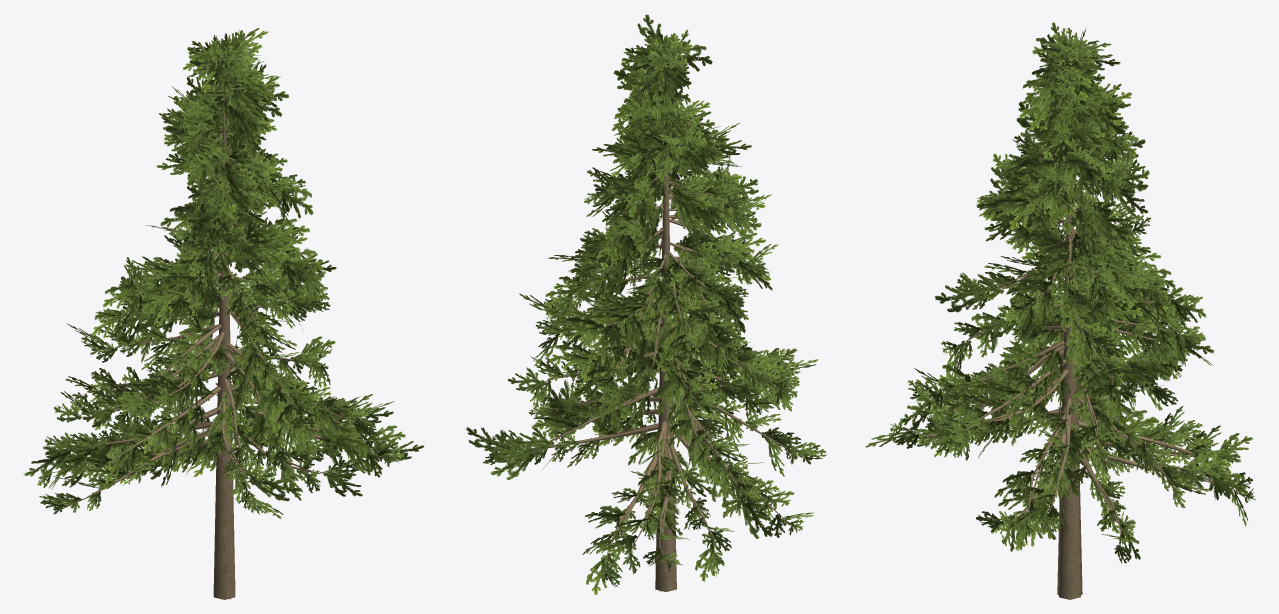
The model's file is tree_spruce_medium.glb.
3 views of the same model, side by side, from view 1: azimuth 30°, elevation 25°; view 2: azimuth 150°, elevation 25°; view 3: azimuth 270°, elevation 25° (orthographic). The views are drawn at different scales.
Visible parts, largest first — view 1: LOD1_leaves, LOD0_leaves, LOD0_trunk, LOD1_trunk; view 2: LOD1_leaves, LOD0_leaves, LOD0_trunk, LOD1_trunk; view 3: LOD1_leaves, LOD0_leaves, LOD0_trunk, LOD1_trunk.
Part boxes in pixels (left/top/right/bottom): LOD1_leaves: left=23, top=28, right=424, bottom=518; LOD0_leaves: left=37, top=29, right=404, bottom=514; LOD0_trunk: left=52, top=96, right=393, bottom=599; LOD1_trunk: left=56, top=108, right=371, bottom=599; LOD1_leaves: left=466, top=14, right=818, bottom=595; LOD0_leaves: left=482, top=31, right=826, bottom=587; LOD0_trunk: left=489, top=83, right=802, bottom=591; LOD1_trunk: left=545, top=156, right=787, bottom=591; LOD1_leaves: left=865, top=22, right=1252, bottom=559; LOD0_leaves: left=890, top=27, right=1255, bottom=563; LOD0_trunk: left=897, top=135, right=1250, bottom=599; LOD1_trunk: left=923, top=148, right=1239, bottom=595.
Bounding box in the file's own units: 7.71 × 12.15 × 7.75.
2 materials, 2 textured.
